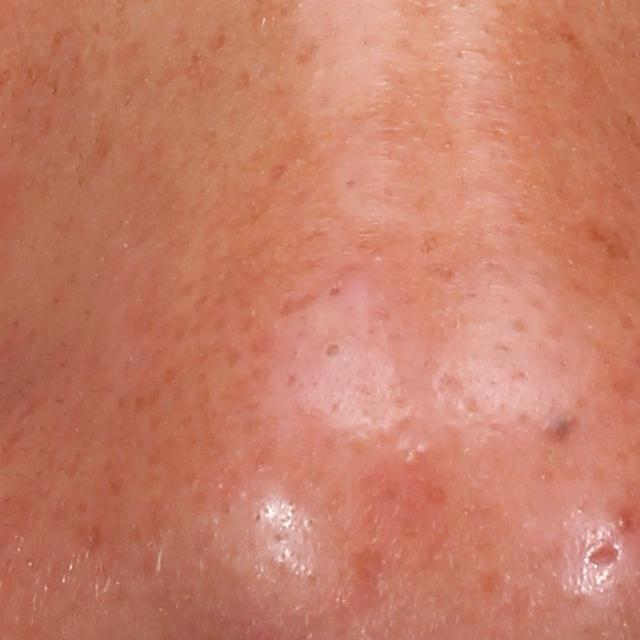atrophic_scar: (350, 545, 385, 615), (580, 536, 623, 570)
comedo: (318, 336, 350, 364)
melasma: (24, 22, 86, 90), (580, 213, 638, 266)
nevus: (540, 406, 575, 446)
